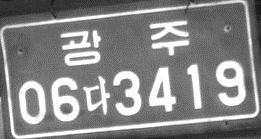0: (18, 80, 46, 125)
1: (180, 64, 210, 109)
3: (112, 70, 142, 116)
4: (148, 67, 176, 112)
6: (50, 76, 79, 122)
9: (215, 60, 246, 107)
광주_D: (60, 20, 189, 66)
다: (81, 75, 110, 116)
